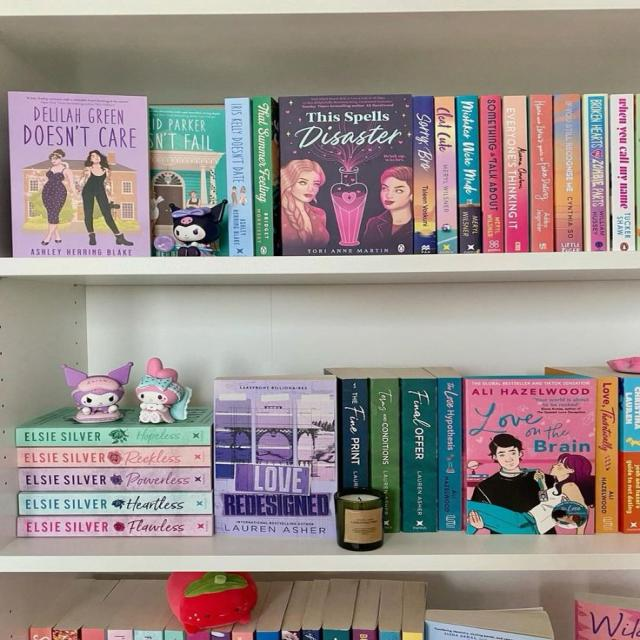book: (545, 367, 617, 532), (400, 377, 437, 531), (369, 378, 400, 532), (553, 93, 583, 252), (19, 467, 210, 491), (226, 97, 254, 256), (18, 492, 211, 515), (582, 94, 610, 251), (17, 515, 212, 536), (610, 94, 636, 251), (17, 446, 210, 467), (437, 376, 463, 531), (252, 97, 277, 255), (529, 95, 554, 252), (457, 95, 481, 253), (503, 95, 527, 252), (480, 95, 503, 253), (413, 97, 436, 253), (337, 378, 369, 489), (15, 428, 209, 446), (436, 97, 457, 253)
candle: (335, 487, 385, 551)
